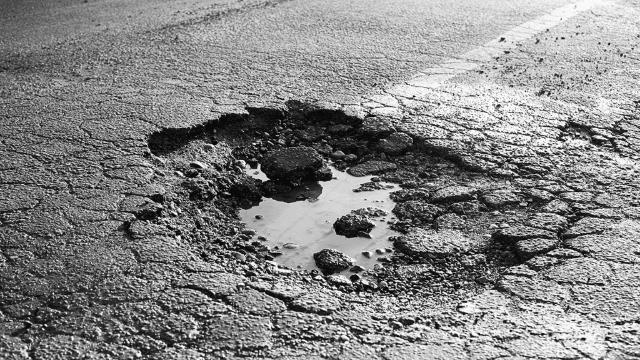Pothole: (140, 75, 580, 310)
